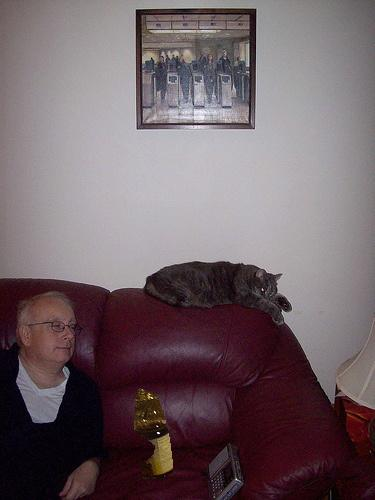tampered: (135, 389, 173, 479)
